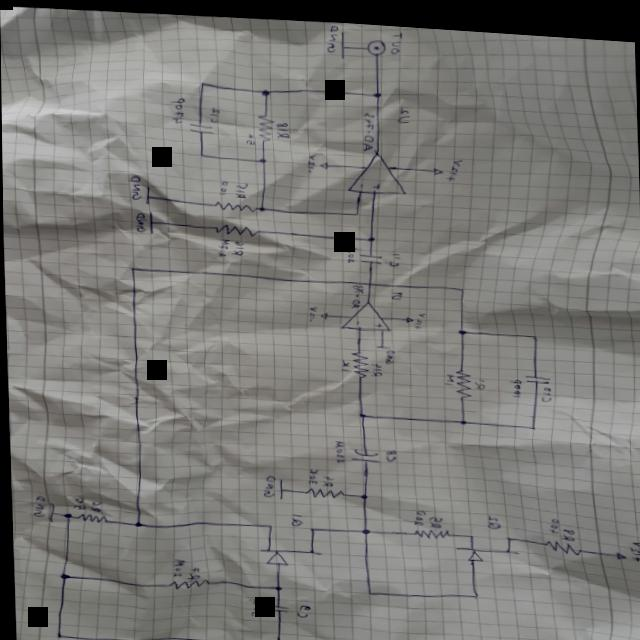capacitor: (348, 442, 378, 460), (187, 119, 214, 132), (521, 367, 549, 378), (355, 248, 382, 259), (263, 599, 287, 610)
crossover: (364, 275, 371, 281)
ground: (337, 26, 345, 55), (144, 209, 153, 231), (275, 474, 283, 497), (143, 183, 151, 203), (46, 502, 53, 521), (372, 339, 390, 345)
junction: (259, 85, 269, 93), (271, 581, 281, 588), (371, 86, 381, 93), (456, 412, 466, 419), (131, 519, 141, 526), (455, 323, 465, 329), (257, 154, 267, 160), (355, 407, 365, 413), (469, 586, 477, 593), (52, 632, 61, 638), (357, 488, 366, 494), (57, 573, 67, 578), (359, 523, 367, 529), (365, 231, 373, 237), (127, 264, 135, 270), (197, 78, 205, 84), (364, 585, 372, 591), (257, 202, 264, 208), (527, 418, 535, 423), (197, 150, 205, 155), (529, 327, 537, 332), (457, 281, 464, 286), (351, 207, 358, 211)
resistor: (164, 574, 208, 590), (211, 219, 256, 234), (542, 531, 581, 548), (211, 196, 256, 210), (452, 362, 471, 394), (348, 346, 369, 374), (255, 110, 274, 140), (410, 521, 448, 535), (302, 482, 342, 495), (71, 510, 108, 523)
source: (613, 543, 625, 552), (317, 156, 327, 166), (317, 307, 327, 316), (431, 161, 441, 169), (401, 311, 413, 317)
terminal: (366, 34, 386, 52), (268, 636, 283, 640)
text: (360, 106, 375, 147), (443, 151, 463, 177), (323, 20, 339, 49), (168, 94, 184, 122), (387, 26, 403, 50), (127, 173, 141, 199), (347, 280, 362, 304), (395, 99, 412, 120), (261, 471, 275, 495), (331, 436, 345, 459), (505, 370, 520, 391), (132, 210, 147, 231), (214, 234, 229, 255), (626, 531, 640, 553), (247, 595, 261, 615), (169, 556, 183, 575), (274, 118, 289, 135), (214, 176, 229, 193), (410, 307, 425, 324), (411, 503, 425, 521), (31, 495, 43, 515), (292, 600, 308, 615), (232, 179, 247, 195), (183, 563, 198, 578), (557, 520, 573, 534), (230, 237, 244, 253), (387, 246, 401, 261), (425, 509, 441, 522), (344, 241, 356, 258), (306, 148, 316, 168), (305, 300, 316, 318), (336, 353, 349, 368), (545, 510, 557, 526), (305, 464, 317, 480), (207, 104, 219, 120), (539, 379, 551, 395), (484, 509, 498, 522), (382, 444, 396, 457), (440, 367, 454, 380), (70, 496, 84, 509), (381, 344, 393, 359), (318, 471, 332, 483), (369, 357, 381, 371), (472, 372, 484, 385), (288, 510, 300, 522), (388, 285, 402, 295), (244, 130, 255, 142), (87, 500, 99, 510), (283, 636, 302, 640), (372, 177, 381, 185), (371, 317, 381, 323), (351, 314, 359, 321), (357, 178, 364, 183)
transistor: (254, 517, 322, 567), (451, 526, 518, 560)
